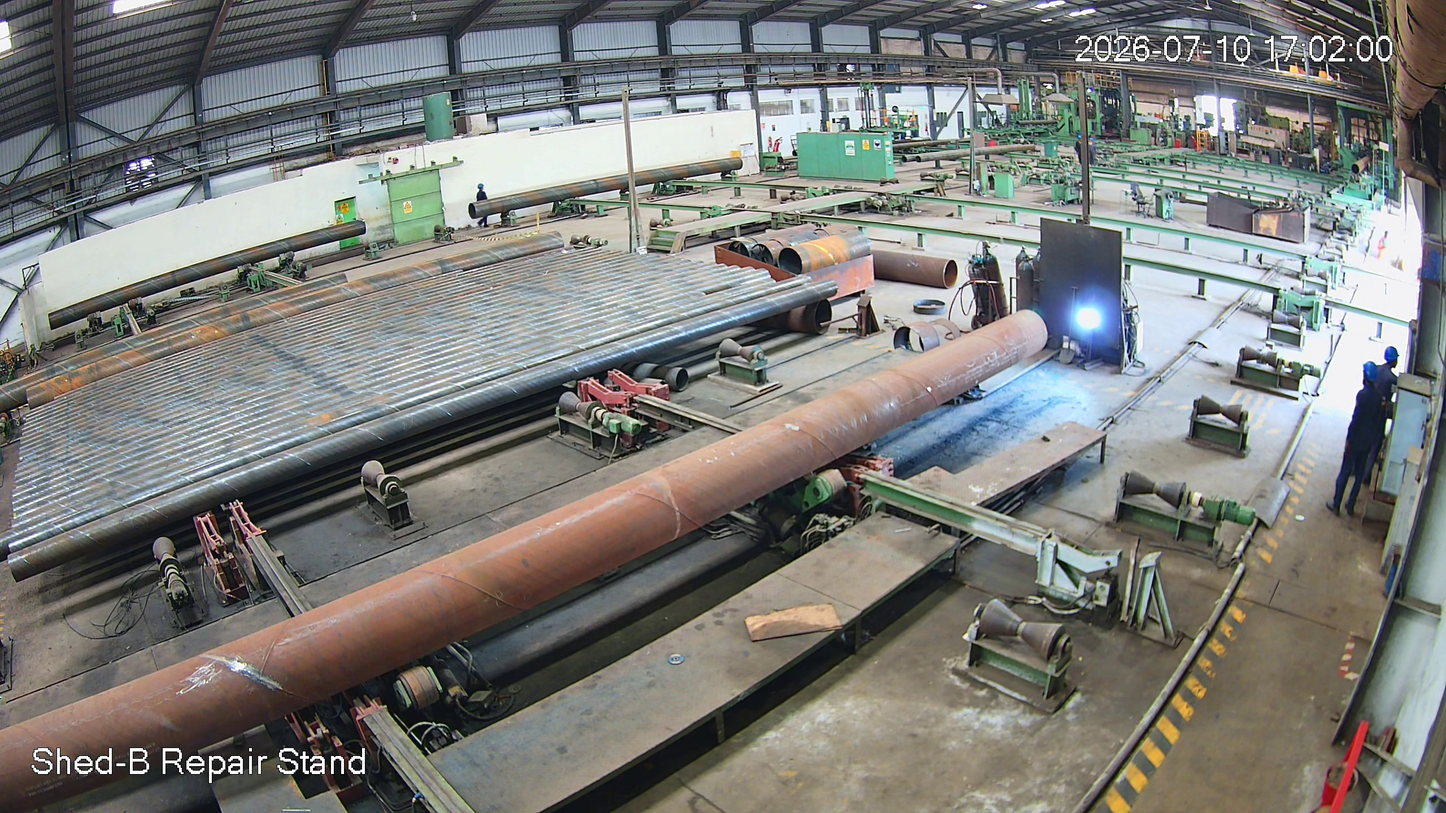Helmet: (1355, 363, 1381, 396)
Person: (1337, 365, 1389, 518)
